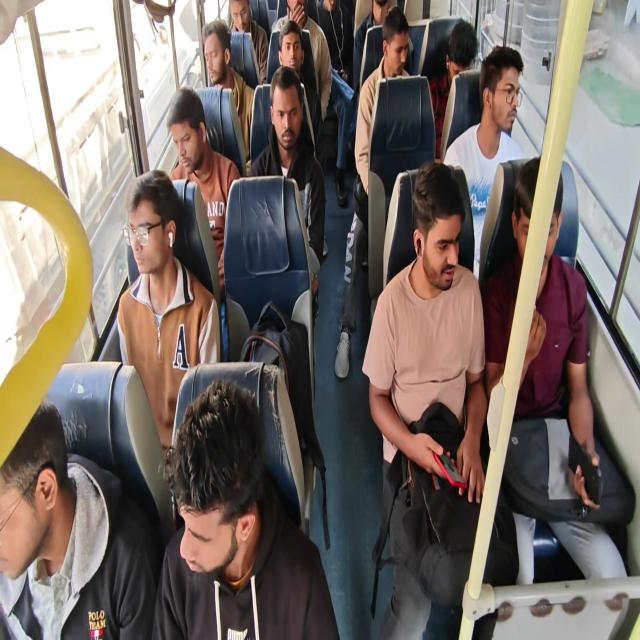person: (361, 160, 519, 638), (482, 156, 635, 584), (152, 378, 340, 638), (0, 401, 158, 638), (117, 169, 221, 461), (334, 6, 412, 379), (442, 46, 524, 280), (249, 65, 326, 297), (166, 87, 241, 301), (354, 7, 412, 196), (311, 0, 356, 207), (269, 19, 324, 162), (201, 19, 255, 162), (428, 19, 477, 158), (352, 0, 397, 89), (227, 0, 269, 85), (318, 0, 354, 81)
